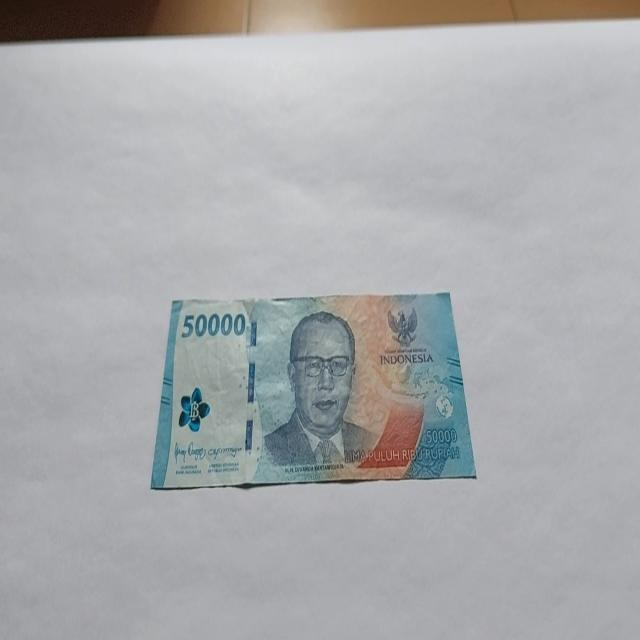lima puluh ribu rupiah: (150, 290, 477, 490), (261, 308, 376, 473)
